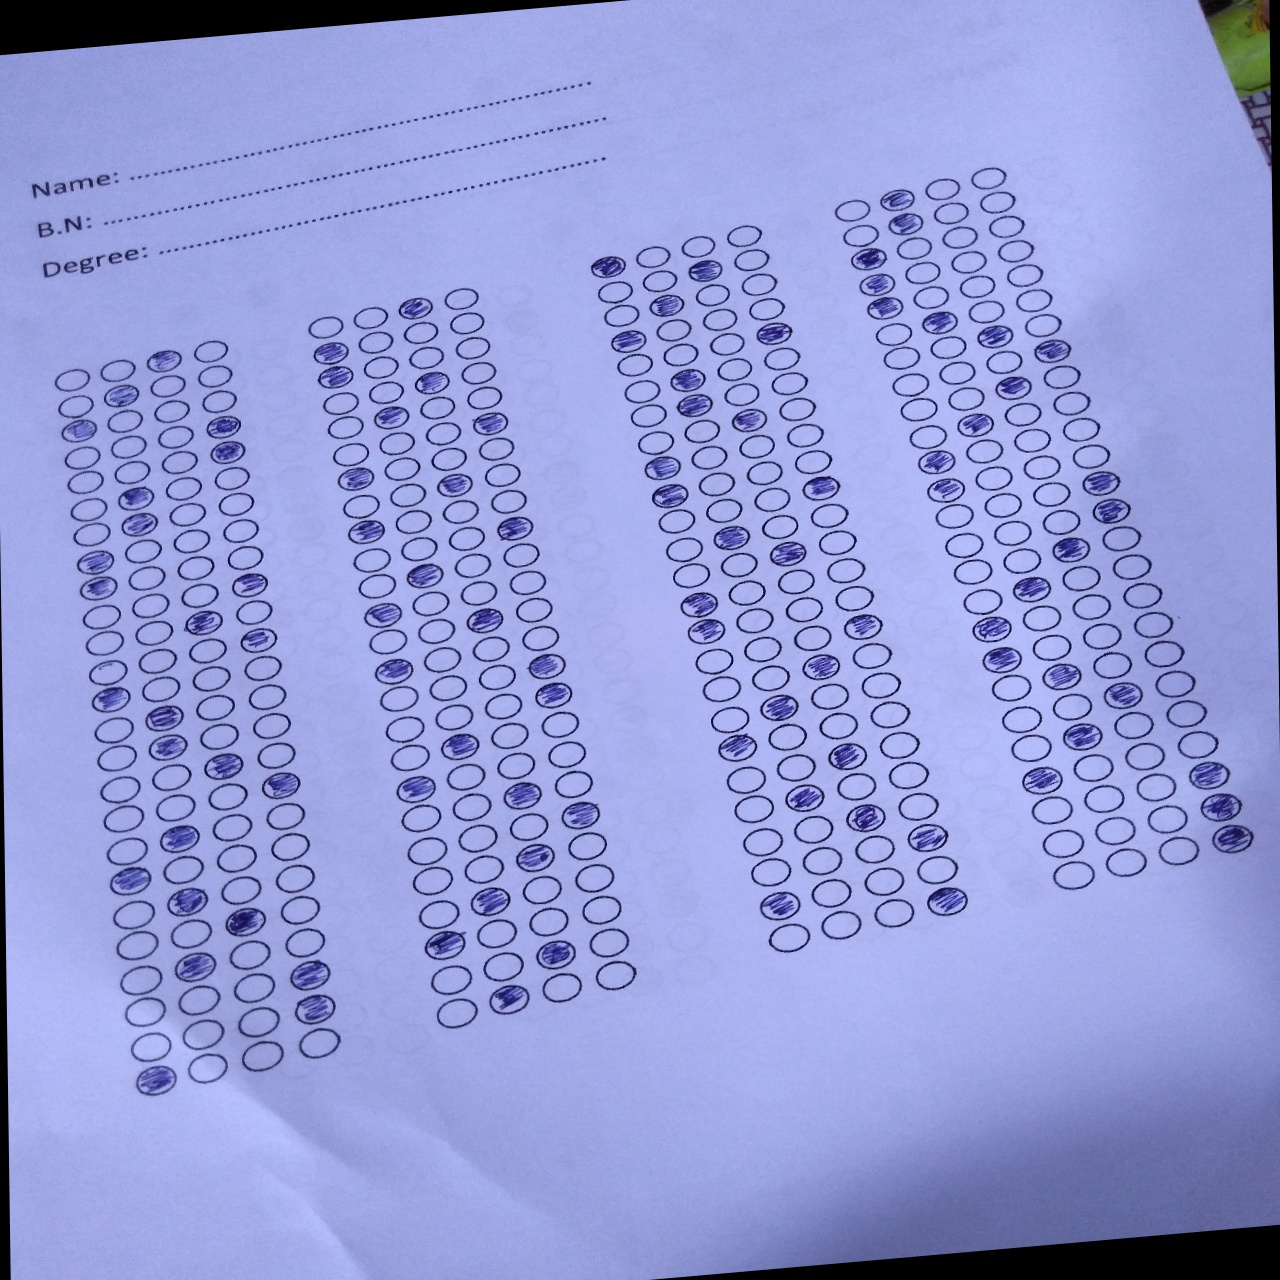not-c: (584, 926, 635, 960), (427, 960, 475, 996), (433, 994, 481, 1030), (593, 956, 641, 992), (539, 971, 587, 1006), (297, 1024, 343, 1060), (408, 864, 456, 897), (451, 823, 499, 856), (522, 873, 570, 906), (566, 829, 614, 862), (479, 949, 527, 982), (573, 862, 622, 893), (526, 905, 574, 937), (459, 855, 508, 886), (502, 811, 550, 843), (581, 894, 629, 926), (472, 918, 520, 949), (237, 1005, 281, 1039), (817, 908, 862, 942), (810, 876, 855, 910), (871, 896, 914, 930), (1104, 845, 1148, 879), (1092, 813, 1136, 847), (1053, 857, 1096, 891), (914, 852, 958, 886), (1133, 770, 1177, 804), (1156, 835, 1199, 869), (767, 920, 810, 954), (835, 768, 878, 802), (817, 709, 860, 743), (859, 666, 903, 700), (1132, 608, 1176, 642), (1000, 702, 1043, 736), (692, 644, 735, 678), (743, 631, 787, 665), (791, 621, 835, 655), (699, 673, 742, 707), (1123, 578, 1166, 612), (1111, 709, 1155, 743), (182, 1017, 226, 1050), (738, 826, 783, 859), (231, 971, 273, 1005), (110, 897, 152, 931), (1032, 794, 1074, 828), (1041, 826, 1083, 860), (896, 789, 938, 823), (1177, 728, 1219, 762), (1146, 802, 1189, 836), (749, 855, 791, 888), (792, 813, 835, 847), (1114, 550, 1156, 584), (1091, 647, 1133, 681), (1144, 636, 1186, 670), (1155, 666, 1197, 700), (1166, 696, 1208, 730), (1009, 731, 1051, 765), (733, 792, 775, 826), (724, 762, 767, 796), (1032, 629, 1074, 663), (1124, 740, 1166, 774), (161, 852, 204, 885), (227, 939, 271, 972), (116, 928, 159, 961), (185, 1051, 229, 1084), (855, 832, 898, 865), (802, 842, 845, 874), (878, 728, 921, 761), (866, 696, 910, 729), (1081, 620, 1124, 653), (775, 751, 818, 784), (1070, 591, 1114, 624), (1049, 689, 1092, 722), (1058, 563, 1102, 595), (959, 584, 1002, 617), (105, 835, 147, 869), (765, 719, 806, 753), (130, 1029, 172, 1062), (239, 1040, 281, 1073), (177, 983, 219, 1016), (118, 964, 161, 996), (1083, 783, 1125, 816), (887, 758, 930, 791), (862, 864, 904, 897), (808, 681, 850, 714), (853, 640, 896, 673), (990, 672, 1033, 704), (708, 701, 750, 734), (749, 661, 791, 694), (1022, 602, 1064, 635), (1071, 751, 1114, 784), (833, 583, 876, 615), (825, 553, 869, 585), (150, 760, 191, 792), (206, 779, 247, 812), (427, 670, 468, 703), (98, 772, 141, 804), (137, 645, 179, 676), (198, 721, 240, 753), (257, 738, 299, 770), (377, 683, 420, 715), (540, 708, 583, 740), (406, 835, 448, 866), (263, 801, 305, 832), (282, 927, 325, 959), (169, 918, 211, 949), (124, 995, 166, 1027), (816, 526, 858, 558), (934, 503, 976, 535), (470, 633, 513, 663), (95, 714, 136, 745), (139, 673, 181, 704), (192, 692, 233, 723), (252, 710, 293, 742), (484, 690, 525, 722), (452, 791, 493, 823), (810, 501, 851, 532), (459, 578, 501, 610), (220, 874, 263, 905), (549, 738, 588, 770), (147, 369, 188, 400), (192, 663, 233, 694), (553, 769, 594, 799), (95, 742, 136, 772), (87, 658, 128, 688), (132, 617, 173, 647), (248, 681, 290, 712), (103, 803, 144, 833), (497, 749, 538, 779), (488, 720, 529, 750), (476, 661, 517, 692), (445, 761, 486, 791), (422, 642, 463, 673), (410, 587, 451, 618), (388, 742, 429, 772), (384, 714, 425, 744), (520, 620, 561, 651), (400, 803, 441, 833), (217, 843, 258, 873), (213, 811, 254, 842), (279, 894, 320, 925), (273, 863, 314, 893), (268, 831, 309, 862), (418, 899, 459, 930), (787, 594, 828, 625), (942, 531, 983, 561), (993, 518, 1034, 549), (753, 482, 794, 512), (687, 443, 728, 474), (697, 468, 738, 498), (734, 605, 775, 635), (1051, 388, 1092, 418), (903, 257, 944, 287), (937, 359, 978, 389), (155, 792, 197, 822), (416, 617, 458, 646), (953, 557, 993, 587), (975, 463, 1015, 493), (900, 395, 940, 425), (777, 394, 817, 424), (1016, 285, 1056, 315), (433, 702, 474, 731), (719, 550, 760, 579), (738, 434, 779, 463), (785, 421, 826, 450), (1061, 414, 1102, 443), (678, 232, 719, 261), (1022, 452, 1063, 482), (1070, 442, 1111, 471), (1030, 481, 1071, 510), (654, 508, 695, 537), (1005, 260, 1046, 290), (995, 236, 1036, 265), (978, 186, 1019, 216), (888, 369, 930, 399), (1039, 363, 1080, 393), (961, 438, 1002, 468), (1024, 312, 1065, 341), (191, 335, 230, 366), (200, 387, 239, 417), (105, 406, 144, 436), (86, 626, 124, 656), (352, 302, 392, 332), (243, 654, 282, 683), (1002, 545, 1042, 574), (726, 578, 765, 607), (983, 491, 1023, 520), (776, 566, 816, 595), (744, 459, 784, 489), (760, 511, 799, 540), (1040, 508, 1080, 537), (1101, 525, 1141, 554), (907, 423, 947, 452), (704, 495, 744, 524), (987, 212, 1027, 241), (831, 195, 871, 224), (871, 319, 911, 348), (880, 343, 920, 373), (1014, 425, 1054, 455), (911, 282, 951, 312), (930, 332, 969, 361), (794, 447, 835, 475), (670, 561, 712, 590), (662, 535, 703, 563), (958, 272, 999, 300), (64, 443, 102, 474), (966, 298, 1008, 325), (305, 312, 343, 341), (55, 389, 94, 418), (53, 365, 91, 394), (369, 626, 408, 655), (98, 356, 138, 384), (188, 635, 227, 663), (682, 417, 722, 445), (635, 428, 675, 456), (839, 220, 879, 248), (944, 384, 983, 413), (1003, 401, 1043, 429), (896, 234, 935, 263), (83, 600, 120, 631), (949, 248, 990, 275), (377, 428, 415, 457), (320, 389, 358, 418), (70, 495, 108, 524), (128, 561, 165, 591), (389, 481, 427, 510), (406, 343, 444, 372), (222, 515, 260, 543), (237, 597, 275, 625), (353, 546, 392, 574), (939, 226, 981, 252), (401, 535, 440, 563), (726, 222, 765, 248), (706, 331, 745, 358), (173, 525, 210, 554), (930, 200, 971, 226), (986, 349, 1027, 375), (195, 363, 232, 392), (442, 498, 479, 526), (355, 328, 393, 356), (332, 440, 369, 468), (211, 464, 248, 492), (159, 448, 197, 476), (157, 421, 195, 449), (366, 377, 403, 406), (425, 420, 463, 448), (483, 459, 520, 488), (454, 335, 491, 363), (442, 284, 479, 312), (75, 520, 113, 549), (66, 469, 103, 497), (394, 506, 431, 535), (217, 490, 254, 518), (503, 542, 540, 570), (132, 591, 170, 619), (359, 570, 396, 598), (454, 551, 491, 579), (448, 525, 485, 553), (971, 163, 1008, 191), (629, 402, 667, 430), (515, 595, 553, 622), (508, 568, 546, 595), (181, 583, 219, 610), (693, 282, 731, 309), (654, 316, 693, 343), (638, 266, 676, 293), (632, 244, 670, 271), (622, 377, 661, 404), (598, 302, 636, 329), (597, 277, 635, 304), (329, 413, 366, 441), (154, 396, 190, 424), (362, 353, 399, 381), (403, 319, 440, 347), (418, 395, 455, 423), (430, 445, 467, 474), (478, 434, 515, 462), (450, 309, 486, 338), (124, 537, 161, 565), (110, 433, 147, 461), (165, 474, 202, 502), (226, 543, 263, 571), (383, 456, 420, 484), (491, 486, 527, 515), (114, 459, 151, 486), (177, 553, 215, 580), (168, 501, 205, 527), (715, 356, 753, 383), (740, 272, 777, 299), (763, 345, 801, 372), (661, 340, 699, 367), (722, 381, 760, 408), (925, 173, 962, 200), (615, 350, 653, 377), (700, 305, 738, 331), (465, 384, 502, 411), (342, 493, 379, 520), (731, 248, 769, 274), (747, 295, 784, 321), (770, 370, 808, 396), (461, 360, 497, 386)
taken-c: (486, 982, 533, 1016), (132, 1063, 177, 1098), (290, 956, 332, 992), (293, 992, 335, 1027), (1017, 763, 1061, 797), (757, 888, 801, 922), (980, 641, 1023, 675), (1102, 680, 1145, 714), (1061, 719, 1104, 753), (714, 731, 757, 765), (760, 692, 803, 726), (784, 781, 828, 815), (1090, 493, 1133, 527), (924, 472, 967, 506), (709, 522, 753, 556), (765, 537, 809, 571), (675, 587, 719, 621), (109, 865, 154, 898), (173, 951, 218, 983), (222, 906, 266, 939), (1041, 661, 1085, 694), (843, 801, 885, 835), (907, 821, 949, 855), (1010, 571, 1053, 605), (826, 738, 869, 772), (685, 617, 727, 651), (799, 470, 842, 504), (926, 884, 969, 917), (1198, 791, 1241, 824), (1210, 823, 1253, 856), (799, 649, 840, 683), (971, 612, 1012, 646), (840, 610, 883, 642), (165, 887, 209, 919), (425, 928, 467, 961), (535, 939, 576, 971), (515, 842, 556, 873), (1081, 468, 1121, 499), (159, 823, 200, 853), (561, 799, 602, 830), (502, 779, 543, 810), (440, 731, 481, 762), (1189, 760, 1230, 790), (116, 482, 155, 513), (527, 651, 567, 681), (261, 769, 301, 799), (471, 886, 511, 917), (396, 774, 436, 804), (102, 381, 141, 411), (239, 625, 278, 655), (413, 367, 451, 397), (230, 570, 268, 600), (149, 731, 188, 762), (1051, 535, 1090, 565), (59, 415, 98, 444), (406, 561, 445, 591), (336, 464, 376, 493), (372, 403, 411, 433), (436, 471, 474, 502), (470, 407, 508, 437), (209, 436, 247, 465), (467, 607, 505, 636), (362, 600, 401, 629), (183, 607, 222, 636), (79, 574, 117, 604), (120, 510, 158, 539), (315, 361, 354, 390), (144, 703, 183, 733), (920, 308, 959, 338), (399, 294, 437, 324), (993, 374, 1033, 402), (144, 346, 182, 375), (497, 512, 535, 542), (347, 518, 384, 547), (75, 547, 113, 577), (91, 685, 129, 714), (976, 321, 1014, 350), (312, 338, 350, 366), (203, 411, 241, 440), (374, 658, 413, 686), (641, 454, 680, 482), (754, 319, 792, 347), (673, 392, 712, 420), (857, 270, 896, 298), (204, 751, 241, 779), (956, 411, 994, 440), (918, 448, 956, 475), (651, 483, 689, 510), (733, 407, 771, 434), (1032, 339, 1070, 366), (588, 253, 627, 280), (687, 258, 726, 285), (877, 188, 915, 215), (850, 245, 888, 272), (667, 366, 704, 393), (648, 292, 686, 319), (886, 211, 924, 238), (866, 294, 904, 321), (610, 328, 647, 354)
